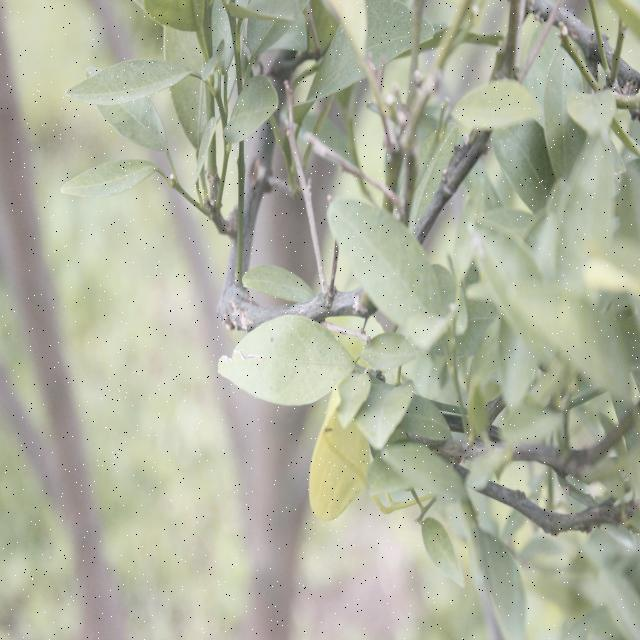blackspot: (256, 326, 346, 397), (318, 455, 368, 520), (85, 169, 135, 197), (142, 119, 161, 143), (136, 83, 147, 96)
